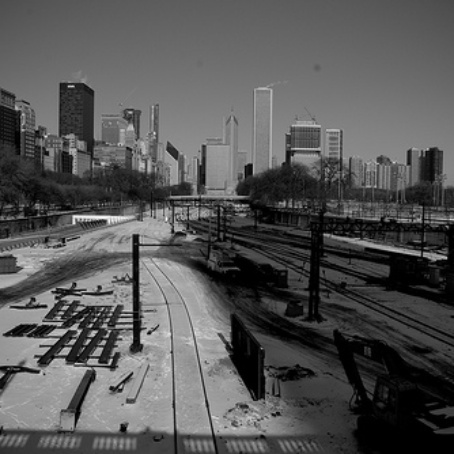building: (100, 109, 142, 183), (244, 85, 278, 175), (58, 79, 95, 155), (281, 117, 324, 174), (16, 97, 39, 163), (61, 138, 96, 181), (44, 133, 77, 178), (201, 138, 228, 192), (160, 137, 184, 192), (225, 107, 243, 179), (1, 93, 19, 157), (323, 126, 346, 176), (405, 144, 425, 192), (426, 145, 446, 189), (347, 151, 366, 192), (364, 155, 382, 192)
sky: (11, 1, 454, 134)
train track: (191, 208, 454, 404)
